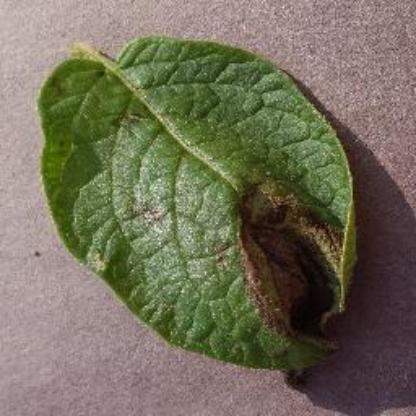Late-Blight: (38, 34, 360, 390)
